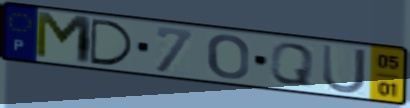7: (154, 25, 196, 75)
D: (88, 16, 137, 68)
M: (32, 9, 95, 68)
O: (205, 33, 251, 81)
Q: (267, 41, 316, 88)
U: (320, 42, 369, 96)
